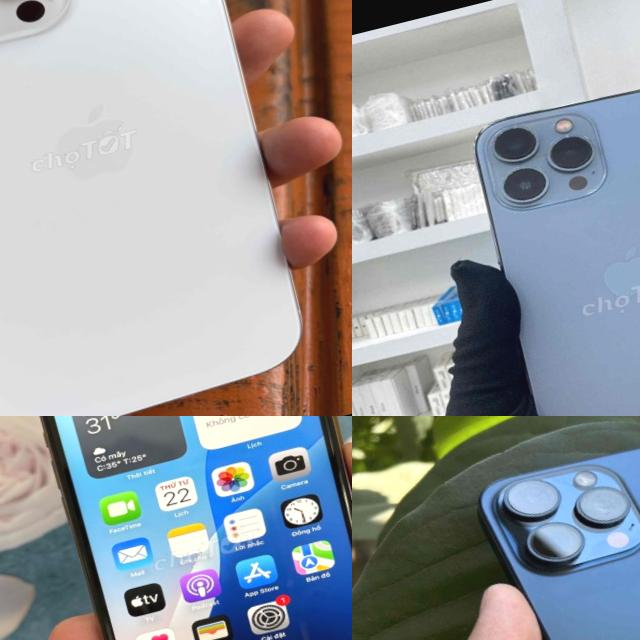scratch: (332, 473, 352, 538)
